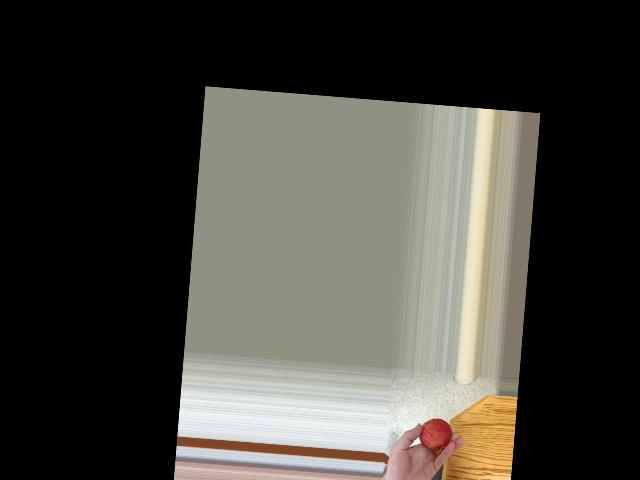apple: (417, 416, 453, 456)
